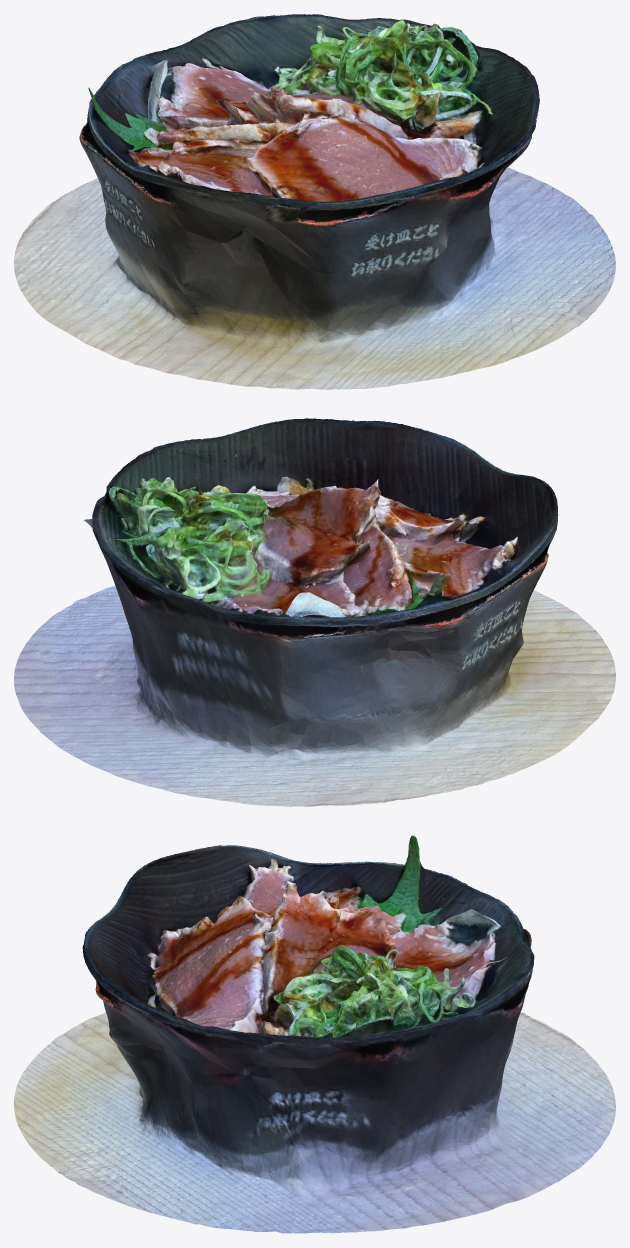
Rendered from kura_sushi.glb.
The picture shows the model from 3 angles, top to bottom: view 1: azimuth 30°, elevation 25°; view 2: azimuth 150°, elevation 25°; view 3: azimuth 270°, elevation 25°; orthographic projection.
Bounding box in the file's own units: 1.38 × 0.5174 × 1.38.
1 material, 1 textured.
